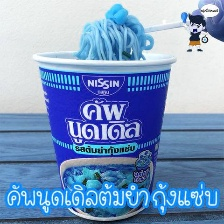paper_cup: (27, 44, 181, 224)
